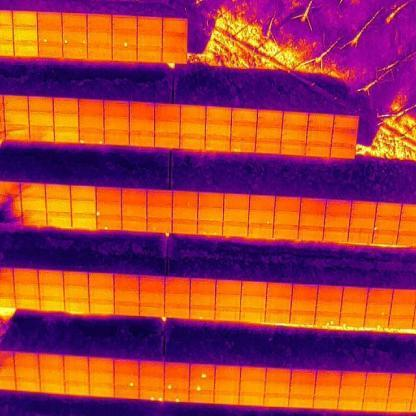Hotspot: (38, 28, 64, 44), (62, 29, 88, 45), (112, 30, 138, 46), (374, 217, 401, 231), (96, 203, 122, 217), (248, 210, 274, 224), (96, 216, 122, 230), (190, 306, 216, 320), (190, 365, 216, 379), (164, 376, 190, 390), (198, 222, 223, 236), (113, 374, 138, 387), (366, 302, 392, 314), (314, 313, 340, 325), (189, 378, 215, 390), (79, 132, 104, 144), (147, 220, 172, 232), (364, 315, 389, 327), (164, 390, 189, 402), (340, 313, 364, 325), (140, 388, 164, 400), (231, 142, 256, 152)
Normal: (53, 114, 80, 134), (198, 192, 224, 210), (300, 197, 326, 215), (156, 106, 181, 124), (326, 199, 351, 217), (256, 110, 284, 126), (78, 100, 104, 117), (104, 102, 130, 119), (62, 12, 88, 29), (256, 126, 283, 142), (95, 187, 122, 203), (13, 42, 40, 58), (130, 104, 155, 121), (29, 113, 54, 130), (206, 123, 231, 140), (180, 108, 206, 124), (230, 110, 256, 126), (4, 111, 30, 127), (130, 121, 156, 137), (154, 122, 180, 138), (180, 123, 206, 139), (230, 126, 256, 142), (282, 128, 308, 144), (12, 11, 38, 27), (147, 190, 173, 206), (173, 190, 199, 206), (276, 196, 302, 212), (71, 200, 97, 216), (376, 202, 402, 218), (87, 14, 113, 30), (223, 208, 249, 224), (298, 226, 324, 242), (292, 282, 318, 298), (13, 26, 39, 42), (164, 362, 190, 378), (240, 366, 266, 382), (390, 372, 416, 388), (87, 44, 113, 60), (137, 47, 163, 63), (38, 12, 62, 29), (70, 186, 97, 201), (223, 194, 250, 209), (4, 96, 29, 112), (53, 100, 78, 116), (283, 114, 308, 130), (122, 188, 147, 204), (250, 195, 275, 211), (351, 202, 376, 218), (114, 272, 139, 288), (217, 278, 242, 294), (87, 29, 112, 45), (266, 367, 291, 383), (38, 44, 63, 60), (12, 352, 40, 366), (214, 366, 242, 380), (136, 32, 164, 46), (46, 184, 72, 199), (172, 206, 198, 221), (198, 208, 224, 223), (22, 211, 48, 226), (46, 212, 72, 227), (348, 216, 374, 231), (172, 220, 198, 235), (138, 17, 164, 32), (267, 282, 293, 297), (265, 308, 291, 323), (366, 372, 392, 387), (64, 380, 90, 395), (206, 108, 230, 124), (80, 116, 104, 132), (162, 32, 186, 48), (162, 47, 186, 63), (104, 120, 131, 134), (21, 198, 48, 212), (274, 212, 301, 226), (299, 214, 326, 228), (248, 224, 275, 238), (138, 362, 165, 376), (28, 98, 53, 113), (308, 115, 333, 130), (334, 116, 359, 131), (373, 230, 398, 245), (64, 271, 89, 286), (165, 276, 190, 291), (191, 291, 216, 306), (63, 45, 88, 60), (113, 47, 138, 62), (306, 131, 332, 145), (306, 144, 332, 158), (112, 14, 138, 28), (122, 218, 148, 232), (323, 229, 349, 243), (88, 272, 114, 286), (190, 278, 216, 292), (40, 284, 66, 298), (114, 288, 140, 302), (216, 293, 242, 307), (240, 294, 266, 308), (266, 296, 292, 310), (342, 300, 368, 314), (39, 354, 65, 368), (291, 370, 317, 384), (88, 382, 114, 396), (315, 384, 341, 398), (189, 390, 215, 404), (214, 391, 240, 405), (332, 144, 356, 159), (72, 214, 96, 229), (326, 214, 350, 229), (242, 280, 266, 295), (314, 395, 338, 410), (162, 18, 187, 32), (39, 270, 64, 284), (343, 286, 368, 300), (89, 300, 114, 314), (391, 300, 416, 314), (115, 360, 140, 374), (64, 368, 89, 382), (89, 370, 114, 384), (316, 372, 341, 386), (15, 378, 40, 392), (388, 386, 413, 400), (264, 392, 289, 406), (46, 200, 72, 213), (147, 206, 173, 219), (318, 286, 344, 299), (64, 298, 90, 311), (316, 299, 342, 312), (332, 130, 356, 144), (122, 204, 146, 218), (348, 230, 372, 244), (14, 270, 38, 284), (140, 276, 164, 290), (368, 288, 392, 302), (166, 290, 190, 304), (41, 296, 65, 310), (388, 316, 416, 328), (40, 366, 64, 380), (342, 372, 366, 386), (40, 380, 64, 394), (281, 144, 306, 157), (274, 226, 299, 239), (215, 307, 240, 320), (240, 308, 265, 321), (340, 386, 365, 399), (289, 394, 314, 407), (13, 366, 40, 378), (30, 130, 54, 143), (104, 134, 130, 146), (256, 142, 280, 155), (223, 224, 249, 236), (14, 284, 40, 296), (64, 286, 90, 298), (90, 287, 114, 300), (392, 288, 416, 301), (140, 290, 164, 303), (291, 298, 317, 310), (140, 303, 164, 316), (214, 380, 240, 392), (289, 382, 315, 394), (264, 382, 290, 394), (240, 392, 264, 405), (180, 138, 205, 150), (155, 138, 180, 150), (115, 302, 140, 314), (165, 304, 190, 316), (290, 311, 315, 323), (64, 356, 89, 368), (139, 376, 164, 388), (240, 380, 265, 392), (338, 398, 363, 410), (88, 358, 114, 369), (363, 399, 389, 410), (54, 133, 79, 144), (365, 387, 390, 398), (130, 137, 154, 148), (16, 297, 40, 308), (115, 387, 139, 398), (204, 140, 230, 150), (386, 400, 410, 410)
Shadow: (5, 124, 30, 141), (20, 182, 46, 198)
